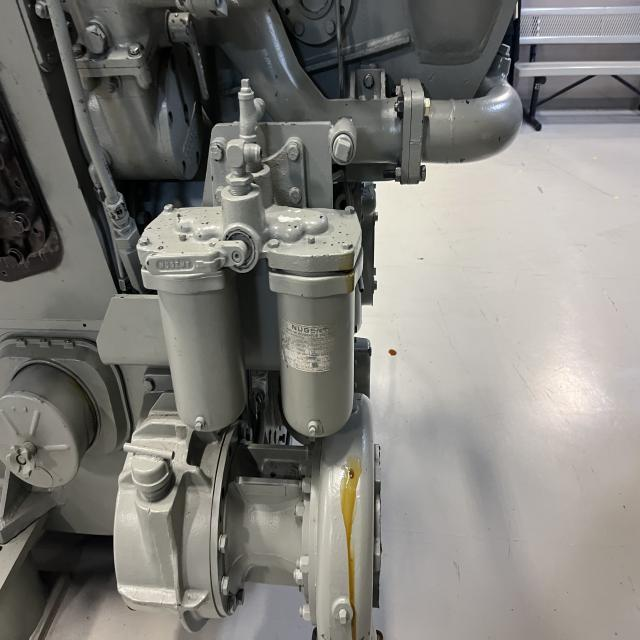Oil Leak: (340, 456, 361, 640), (389, 349, 397, 356)
